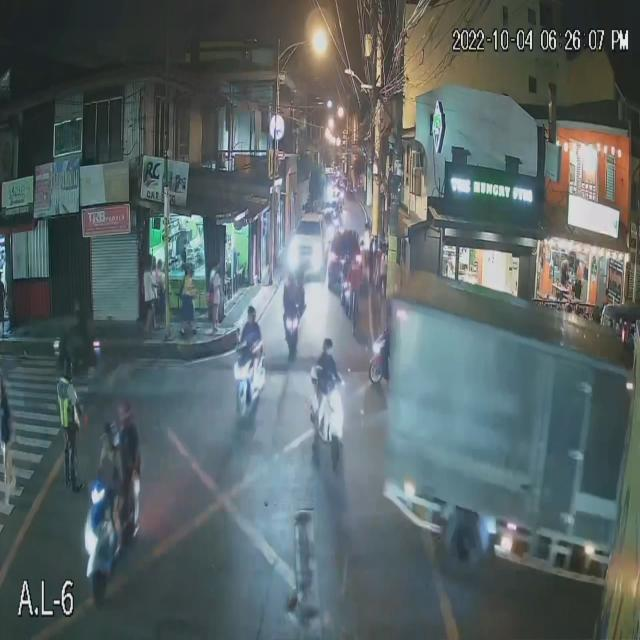Full-Faced: (320, 338, 333, 356)
Not-Wearing-Helmet: (242, 306, 258, 329)
